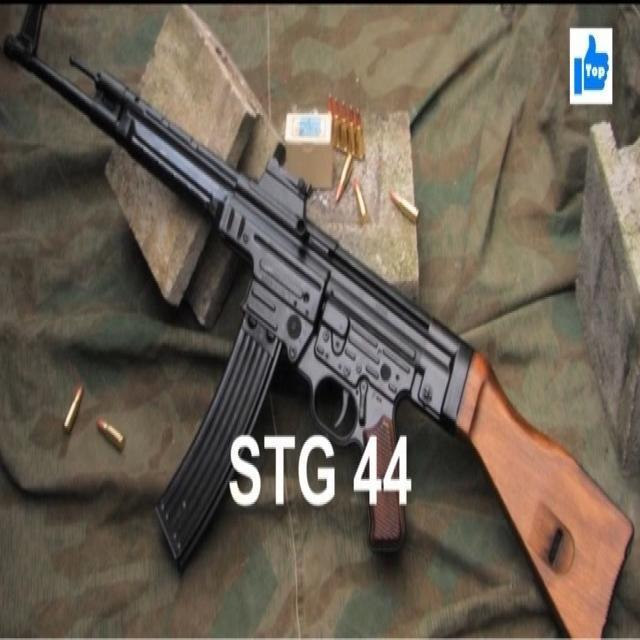ak: (1, 11, 626, 628)
